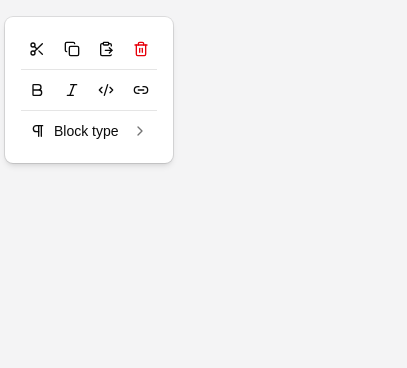
Scenario: editor-context-popup › leaves no indicator column beside submenu rows that already carry an icon
The width and height of the screenshot is (407, 368).
Click the button "Block type" at (89, 131), box [21,115,157,147]
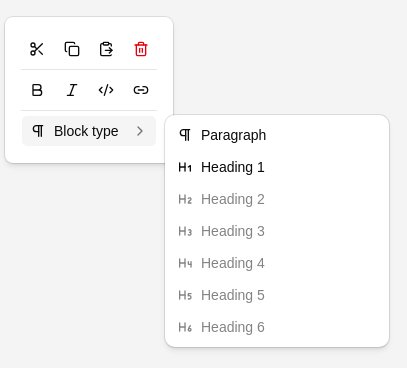
Now the menu item "Paragraph" is shown, box [177,127,266,143]
